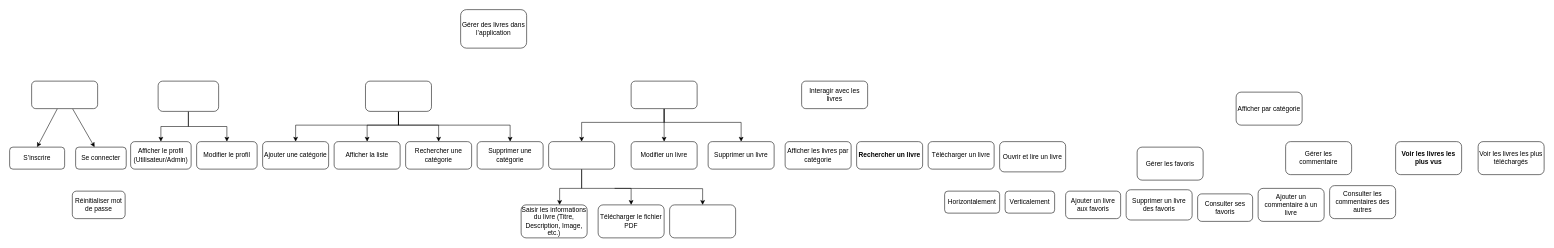
Some shapes in this 1554 by 248 pixel diagram are drawn without their labels. The shapes that lost their labels are listed below. From the top down, each one's centre as x and y in pixels, then its label:
pixel 64 95: Gérer l’authentification
pixel 188 96: Gérer le profil
pixel 398 96: Gérer les catégories
pixel 664 95: Gérer les livres
pixel 581 155: Ajouter un livre
pixel 702 221: Associer le livre à une catégorie
